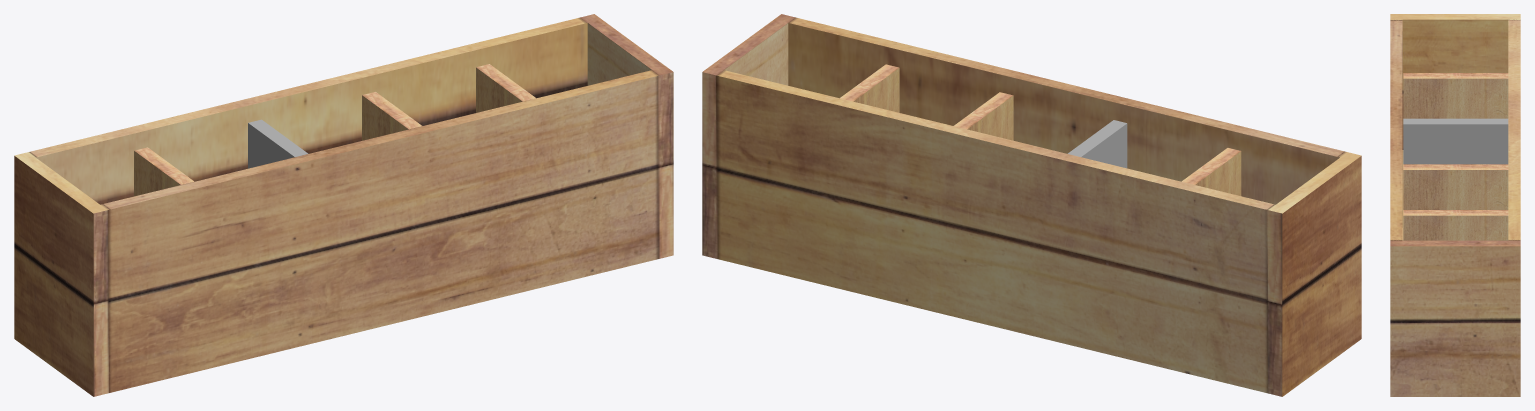
Rendered from Garden Bed 5.fbx.
3 renders of one model, left to right at view 1: azimuth 30°, elevation 25°; view 2: azimuth 150°, elevation 25°; view 3: azimuth 270°, elevation 25°, orthographic. The views are drawn at different scales.
Parts seen in each view (by area): view 1: pasted__pasted__pCube5, pasted__pasted__pCube6 (×3), pasted__pCube6; view 2: pasted__pasted__pCube5, pasted__pasted__pCube6 (×3), pasted__pCube6; view 3: pasted__pasted__pCube5, pasted__pasted__pCube6 (×3), pasted__pCube6.
Part boxes in pixels (<box>): pasted__pasted__pCube5: <box>14,14,673,396</box>; pasted__pasted__pCube6 (×3): <box>134,64,535,196</box>; pasted__pCube6: <box>248,119,308,168</box>; pasted__pasted__pCube5: <box>702,14,1361,396</box>; pasted__pasted__pCube6 (×3): <box>840,64,1241,195</box>; pasted__pCube6: <box>1067,120,1127,168</box>; pasted__pasted__pCube5: <box>1390,14,1520,396</box>; pasted__pasted__pCube6 (×3): <box>1403,73,1508,240</box>; pasted__pCube6: <box>1403,118,1508,164</box>.
Size of the model in its own units: 194 by 58.44 by 45.82.
